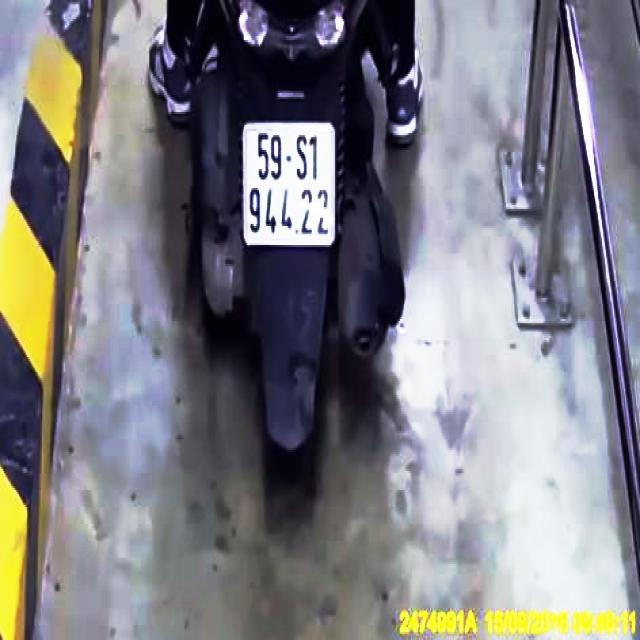license_plate: (246, 126, 336, 241)
